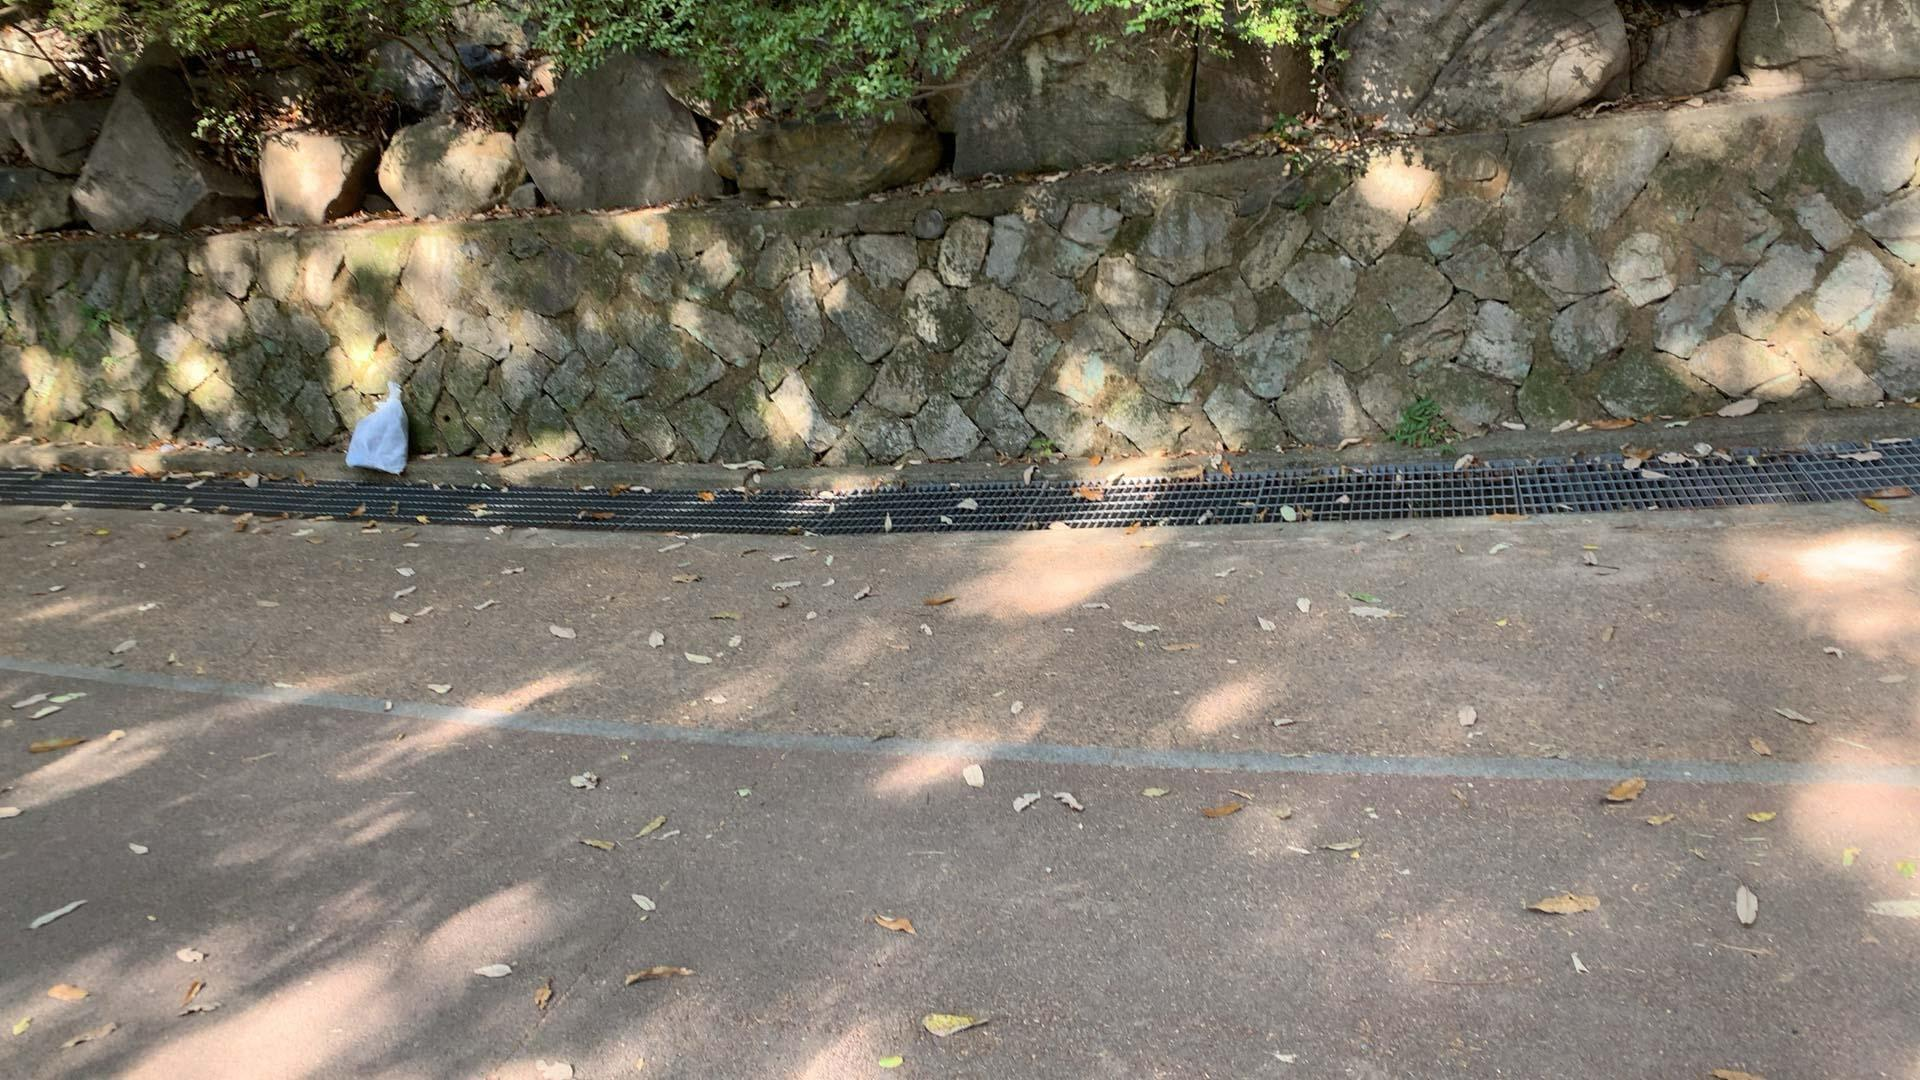white_bag: (338, 377, 415, 476)
